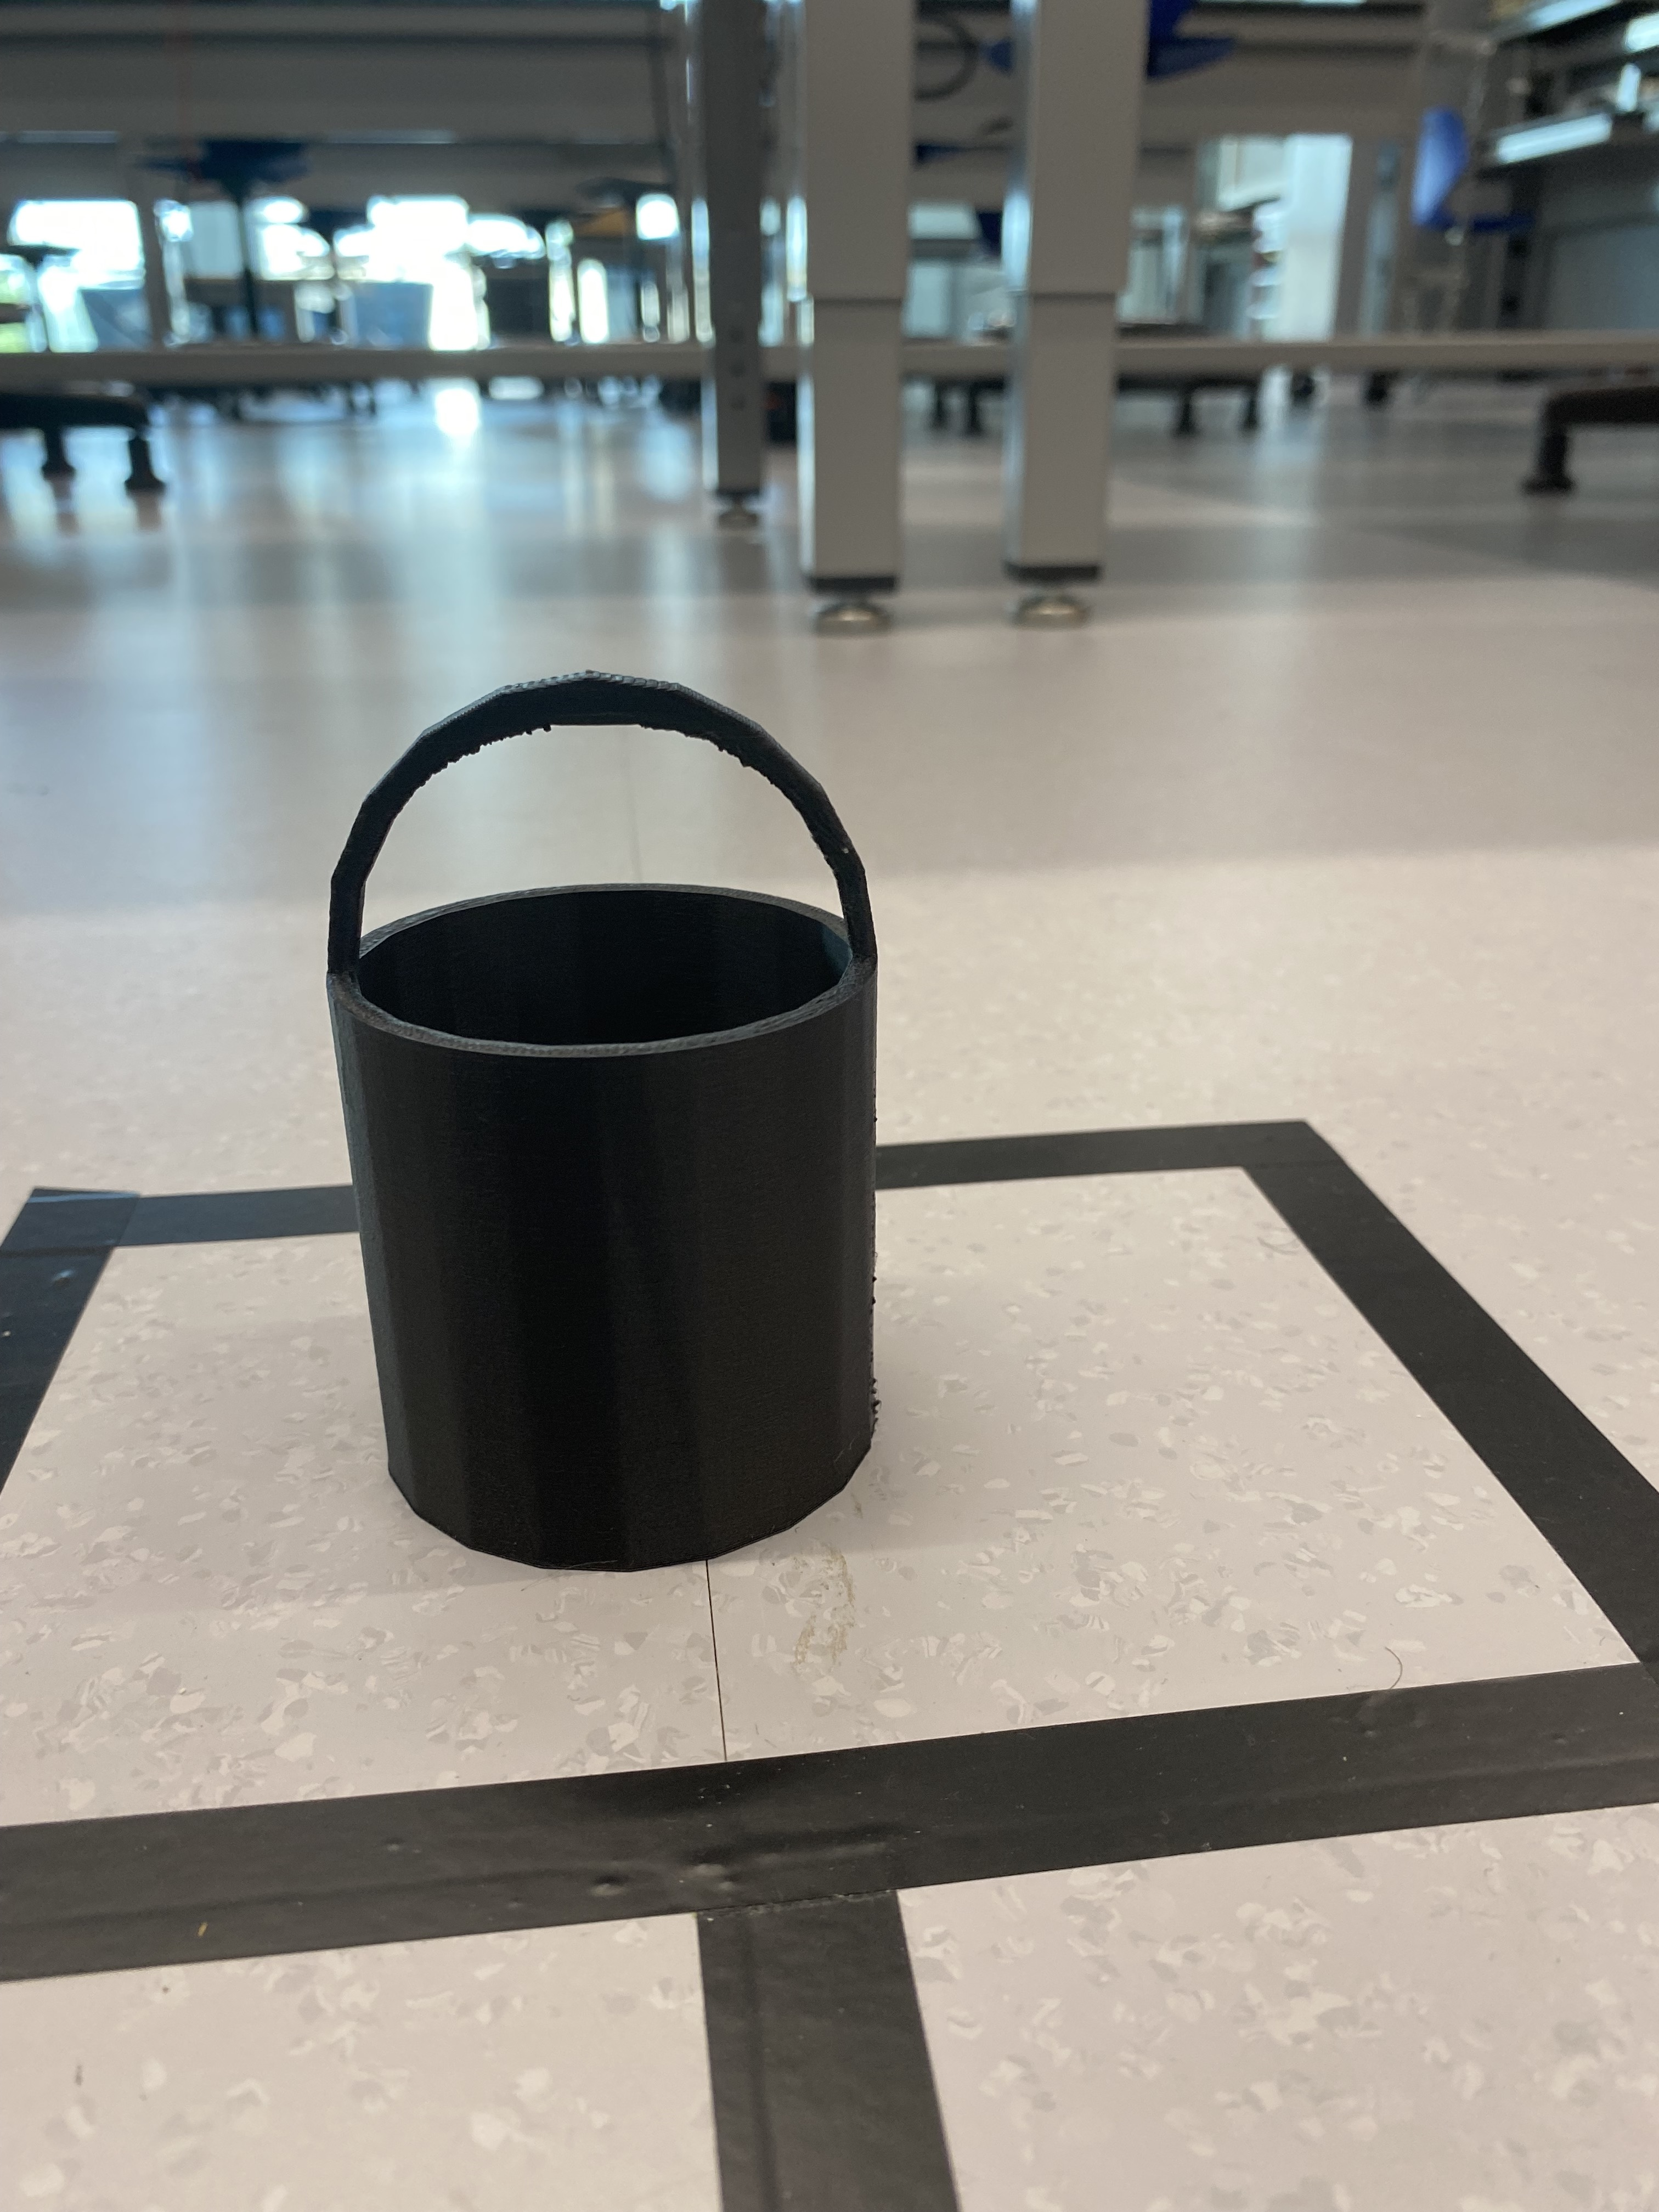bag: (312, 671, 889, 1580)
